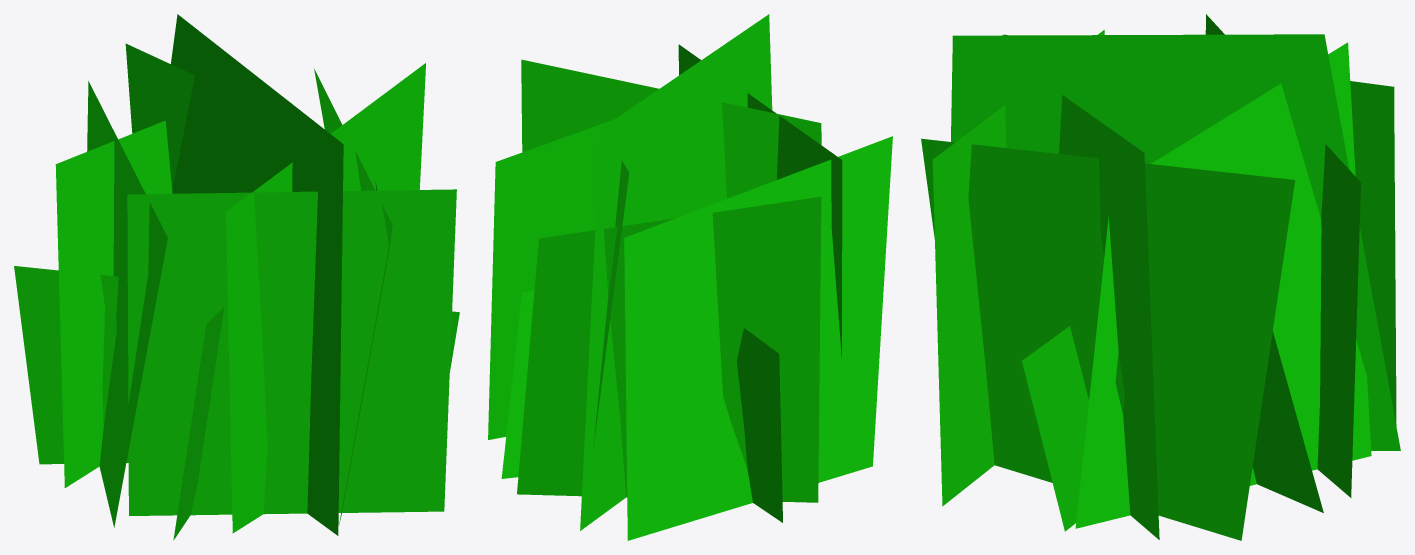
The model's file is Grass01.fbx.
3 renders of one model, left to right at view 1: azimuth 30°, elevation 25°; view 2: azimuth 150°, elevation 25°; view 3: azimuth 270°, elevation 25°, orthographic. The views are drawn at different scales.
Parts seen in each view (by area): view 1: Grass01; view 2: Grass01; view 3: Grass01.
Part boxes in pixels (bbox=[...]): Grass01: bbox=[14, 14, 459, 540]; Grass01: bbox=[488, 14, 892, 540]; Grass01: bbox=[921, 14, 1400, 540].
Size of the model in its own units: 94.03 by 103 by 105.
